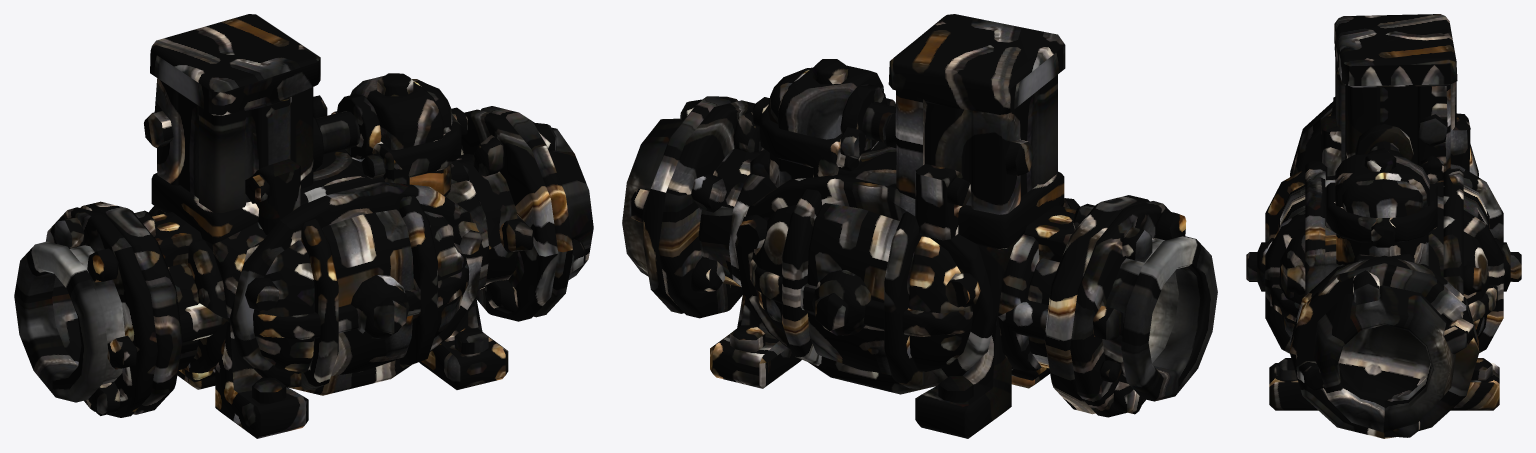
File: Pump_shape_cleanup.fbx
3 renders of one model, left to right at view 1: azimuth 30°, elevation 25°; view 2: azimuth 150°, elevation 25°; view 3: azimuth 270°, elevation 25°, orthographic. The views are drawn at different scales.
Parts seen in each view (by area): view 1: tripo_convert_23e97eb0_8bde_402a_bfff_ac4c4e33ca50; view 2: tripo_convert_23e97eb0_8bde_402a_bfff_ac4c4e33ca50; view 3: tripo_convert_23e97eb0_8bde_402a_bfff_ac4c4e33ca50.
Part boxes in pixels (x1,y1,x2,y2): tripo_convert_23e97eb0_8bde_402a_bfff_ac4c4e33ca50: (14, 14, 593, 438); tripo_convert_23e97eb0_8bde_402a_bfff_ac4c4e33ca50: (622, 14, 1217, 438); tripo_convert_23e97eb0_8bde_402a_bfff_ac4c4e33ca50: (1246, 14, 1521, 438).
Bounding box in the file's own units: 0.998 × 0.6201 × 0.5371.
